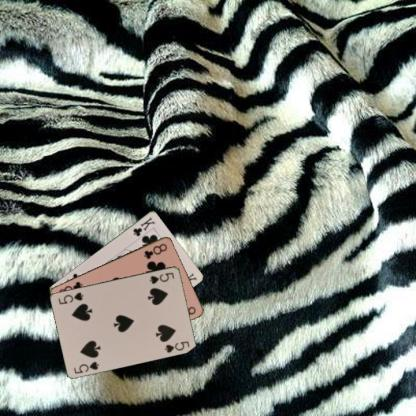5s: (146, 270, 176, 285), (71, 359, 101, 374)
8c: (142, 240, 168, 260)
Kc: (130, 214, 156, 237)
